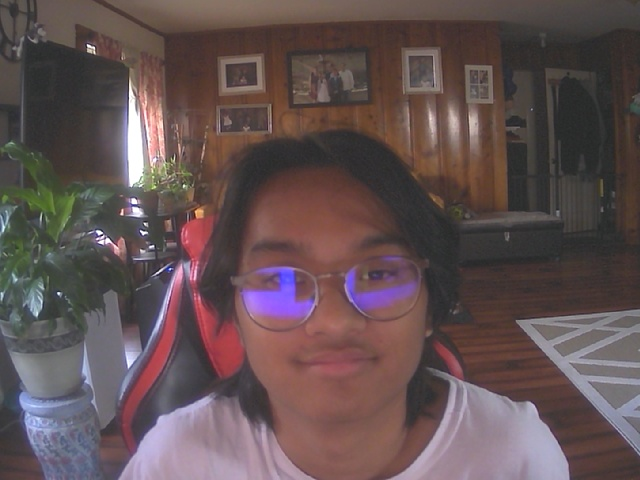happy: (226, 151, 443, 429)
